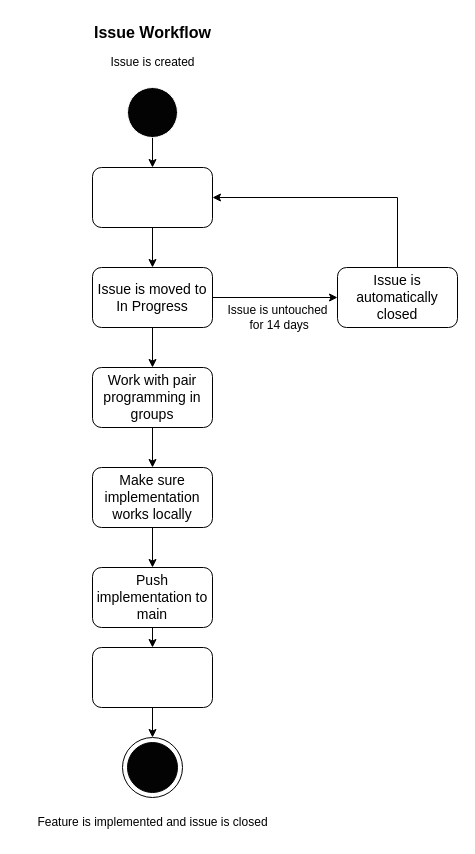
The diagram is 475 pixels wide and 854 high, and some of its shapes have lost their labels. The shapes that lost their labels are listed below. From the top down, each one's centre as x and y in pixels, then its label:
(x=152, y=197): Assign people to issue
(x=152, y=677): Issue is closed
